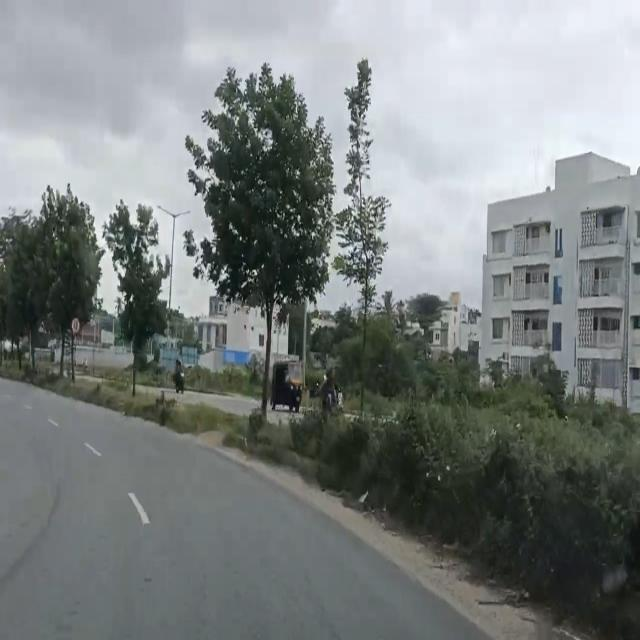bien_cam: (37, 318, 47, 338), (71, 317, 80, 336)
